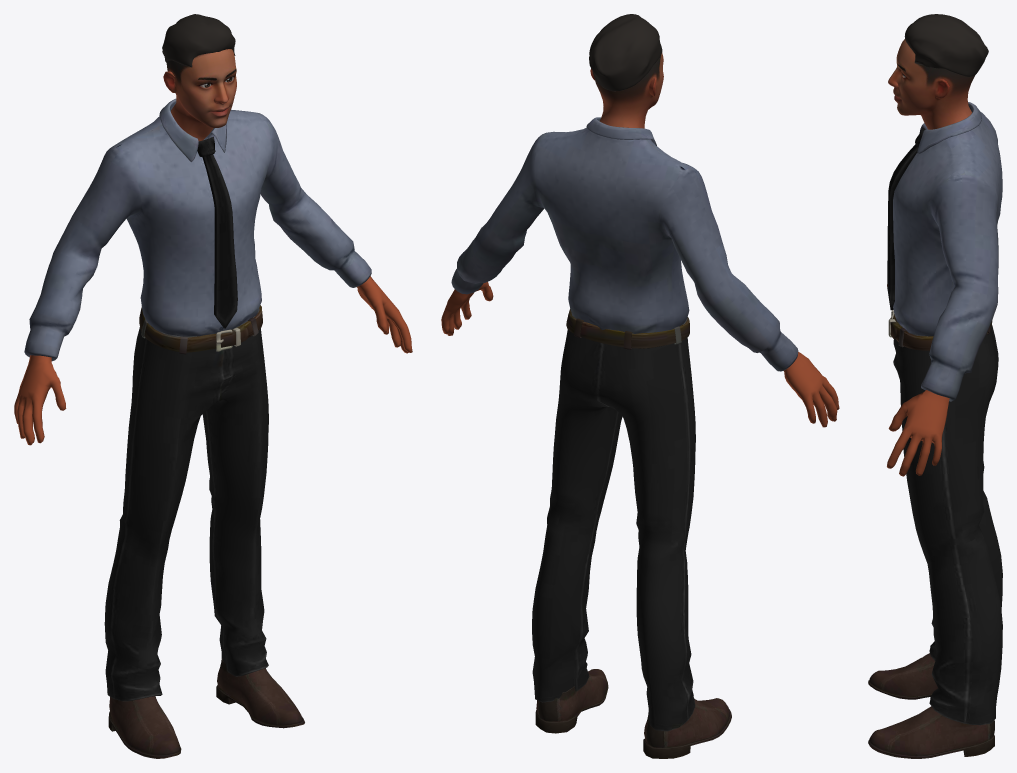
3 renders of one model, left to right at view 1: azimuth 30°, elevation 25°; view 2: azimuth 150°, elevation 25°; view 3: azimuth 270°, elevation 25°, orthographic.
Visible parts, largest first — view 1: Wolf3D_Outfit_Top, Wolf3D_Outfit_Bottom, Wolf3D_Outfit_Footwear, Wolf3D_Head, Wolf3D_Body, Wolf3D_Hair; view 2: Wolf3D_Outfit_Bottom, Wolf3D_Outfit_Top, Wolf3D_Outfit_Footwear, Wolf3D_Hair, Wolf3D_Body, Wolf3D_Head; view 3: Wolf3D_Outfit_Bottom, Wolf3D_Outfit_Top, Wolf3D_Outfit_Footwear, Wolf3D_Head, Wolf3D_Hair, Wolf3D_Body.
Boxes of the visible parts, bbox=[...] form: Wolf3D_Outfit_Top: bbox=[24, 98, 371, 361]; Wolf3D_Outfit_Bottom: bbox=[104, 305, 268, 701]; Wolf3D_Outfit_Footwear: bbox=[108, 658, 304, 758]; Wolf3D_Head: bbox=[163, 49, 236, 141]; Wolf3D_Body: bbox=[14, 276, 412, 445]; Wolf3D_Hair: bbox=[162, 14, 235, 67]; Wolf3D_Outfit_Bottom: bbox=[532, 309, 695, 731]; Wolf3D_Outfit_Top: bbox=[451, 117, 798, 371]; Wolf3D_Outfit_Footwear: bbox=[535, 669, 731, 758]; Wolf3D_Hair: bbox=[589, 14, 662, 91]; Wolf3D_Body: bbox=[441, 282, 839, 427]; Wolf3D_Head: bbox=[590, 52, 663, 128]; Wolf3D_Outfit_Bottom: bbox=[888, 310, 1002, 725]; Wolf3D_Outfit_Top: bbox=[887, 102, 1002, 401]; Wolf3D_Outfit_Footwear: bbox=[868, 653, 994, 758]; Wolf3D_Head: bbox=[888, 39, 974, 129]; Wolf3D_Hair: bbox=[904, 14, 988, 77]; Wolf3D_Body: bbox=[887, 284, 949, 476].
Bounding box in the file's own units: 1.06 × 1.86 × 0.3229.
Materials: 9 (9 with a texture image).
